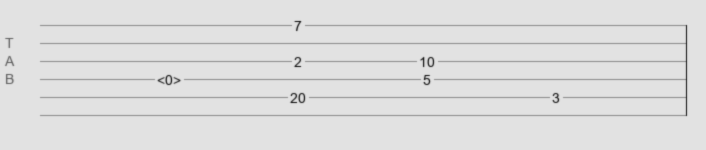10: (419, 54, 435, 64)
2: (294, 54, 302, 64)
20: (290, 90, 306, 100)
3: (552, 90, 560, 100)
5: (423, 72, 431, 82)
7: (294, 18, 302, 28)
harmonic: (157, 72, 181, 82)
